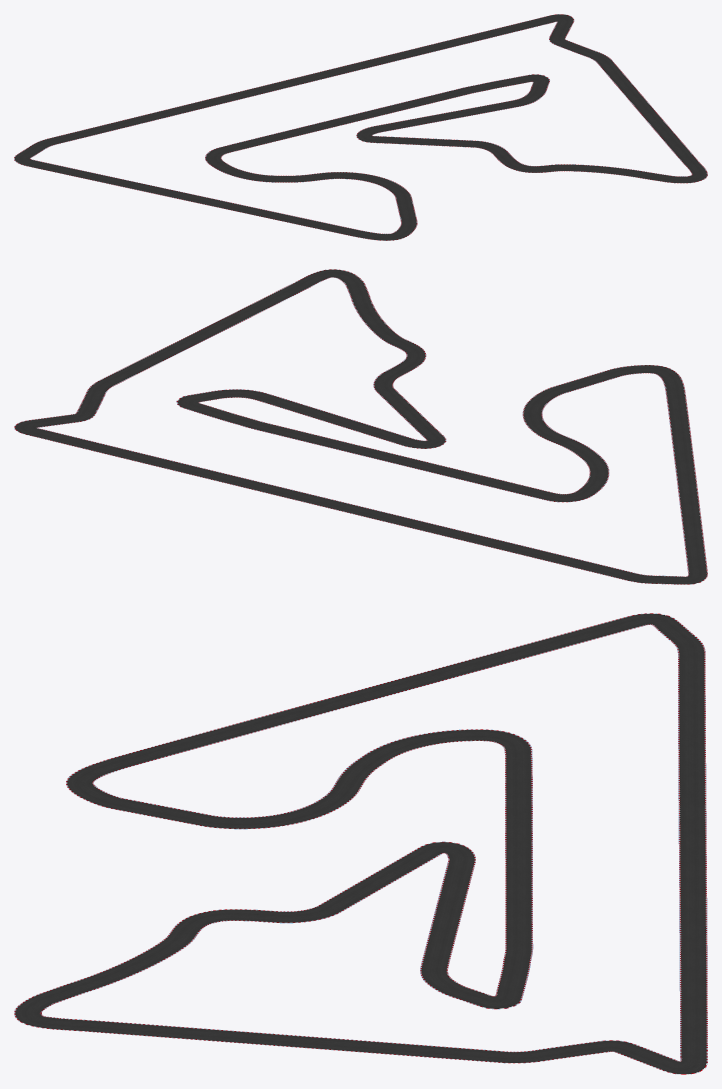
The model's file is road.fbx.
3 views of the same model, one above another, from view 1: azimuth 30°, elevation 25°; view 2: azimuth 150°, elevation 25°; view 3: azimuth 270°, elevation 25° (orthographic). The views are drawn at different scales.
Parts seen in each view (by area): view 1: road; view 2: road; view 3: road.
Boxes of the visible parts, x1,y1,x2,y2 form: road: [14, 14, 707, 240]; road: [14, 269, 707, 584]; road: [14, 613, 707, 1074].
Size of the model in its own units: 1056 by 2.79e-06 by 671.
